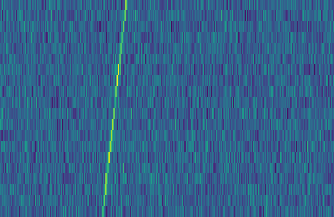signal: (96, 0, 129, 217)
